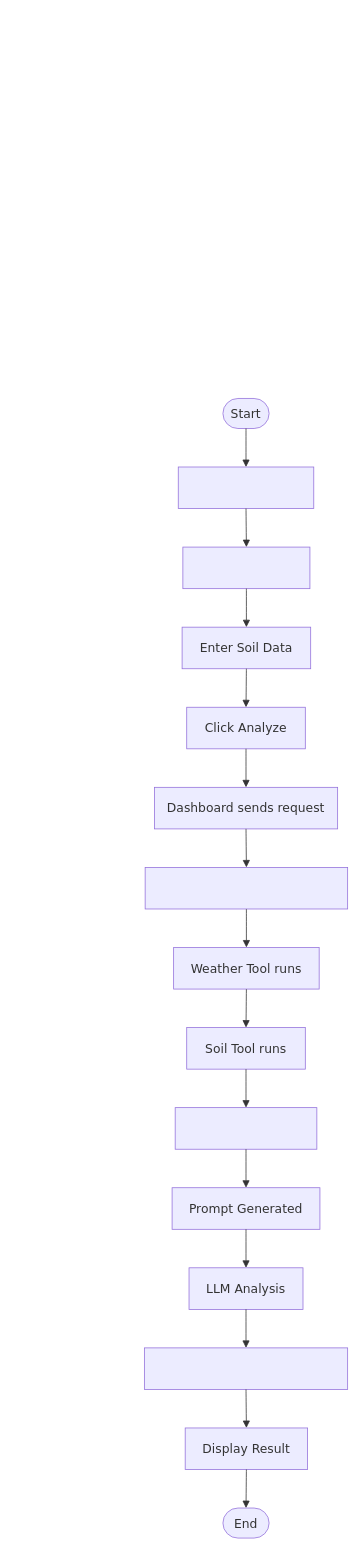
Image size: 361x1552. Some labels were removed from this diagram. Each missing label, with the centre of its shape:
"Enter Location" goes at point (246, 567).
"MCP Server receives request" goes at point (246, 888).
"Open Dashboard" goes at point (245, 487).
"Recommendation Generated" goes at point (246, 1368).
"Resources loaded" goes at point (245, 1128).
